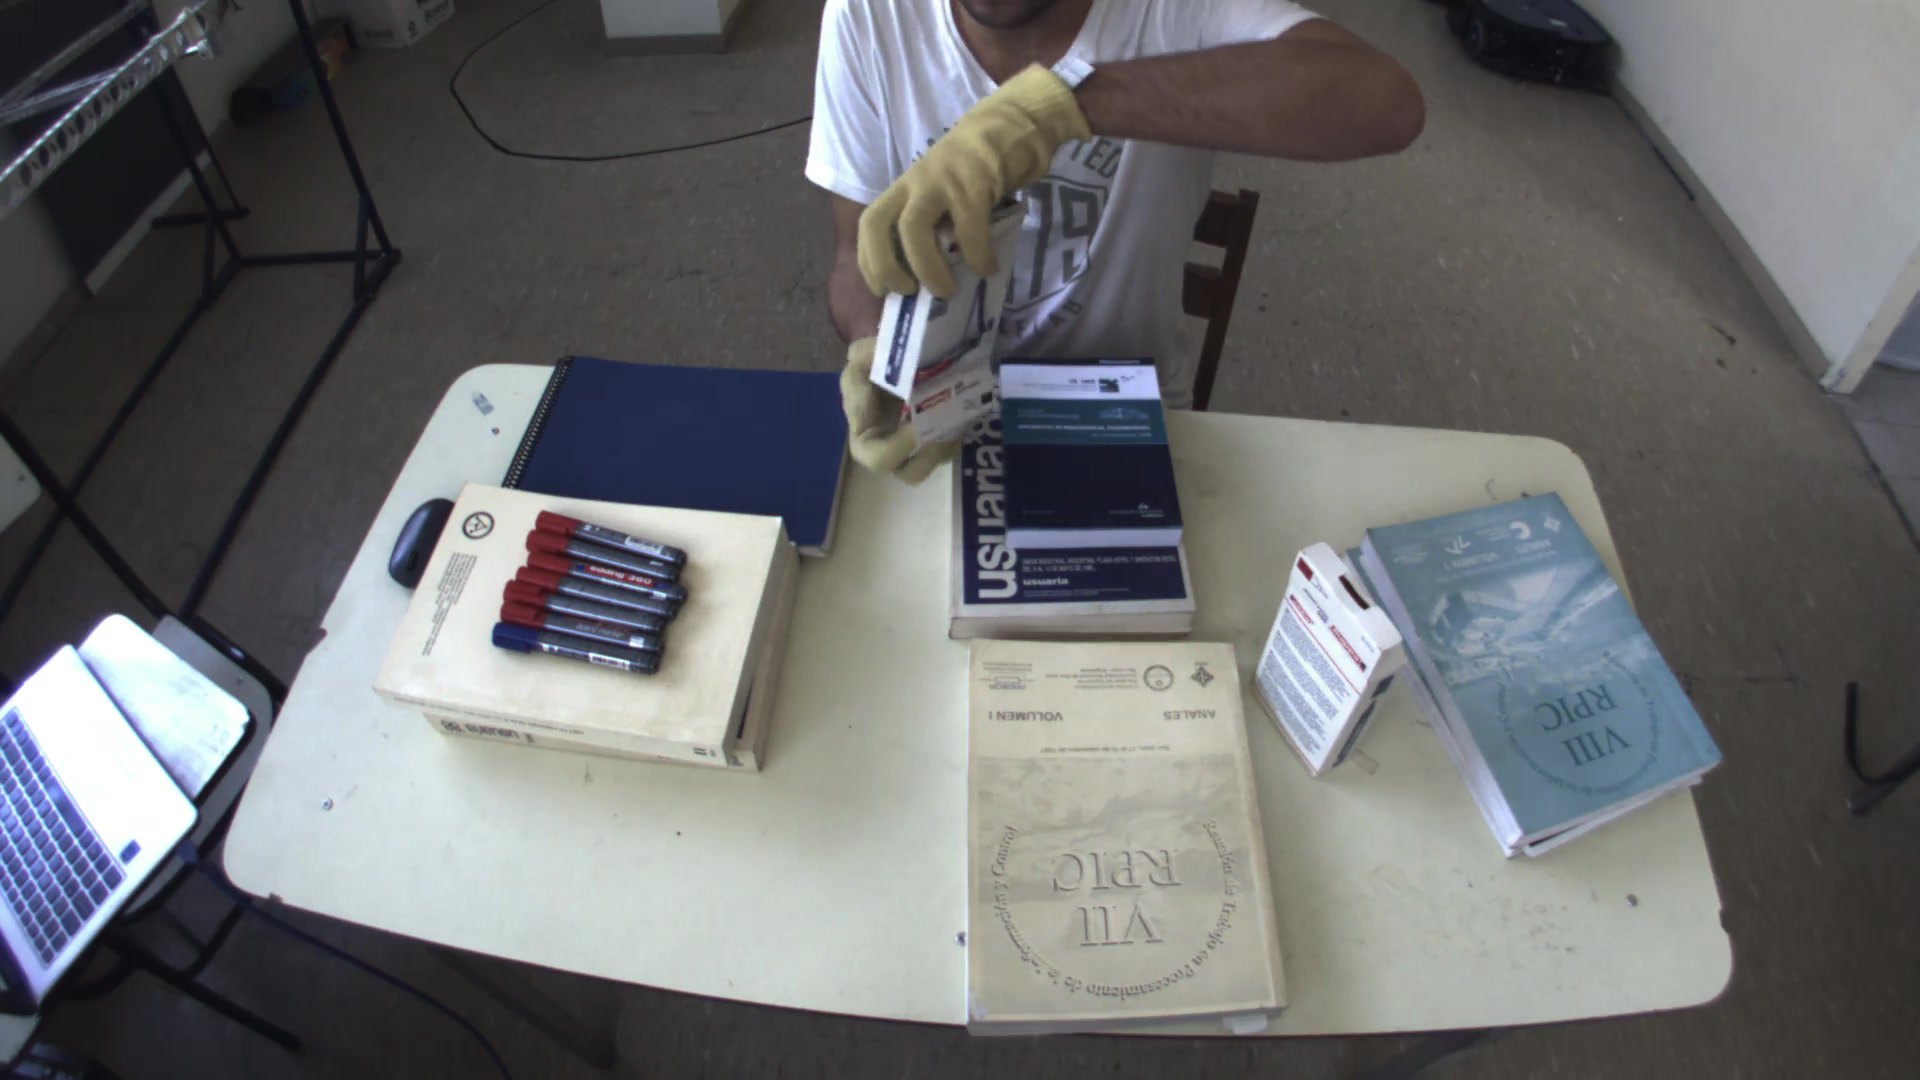hand: (843, 65, 1092, 302), (829, 349, 984, 488)
